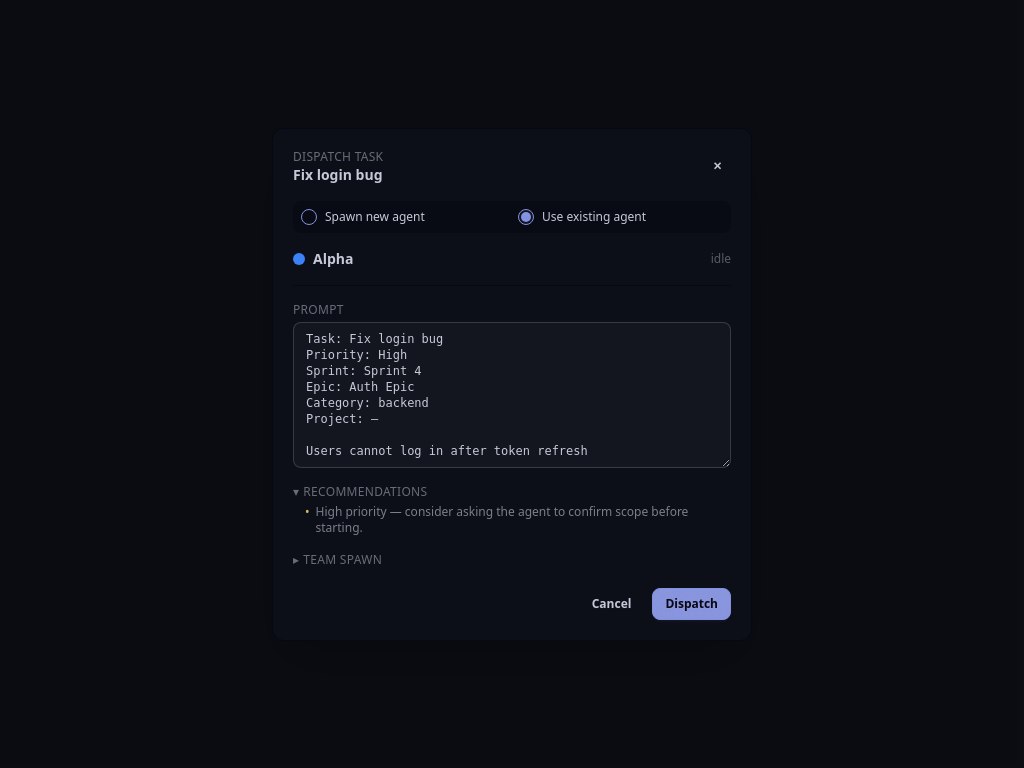
KanbanDispatchModal — team spawn › expands team spawn section when clicked
Click the button "▸ Team spawn".
click(343, 559)  # box [293, 552, 731, 568]
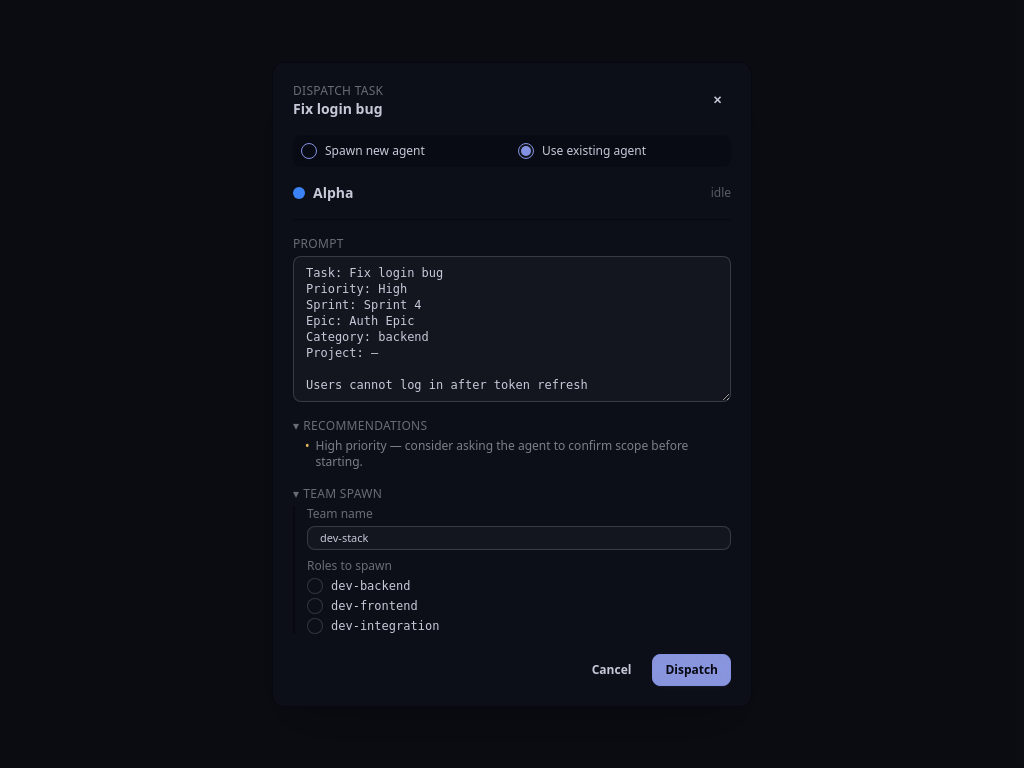
Now the field labelled "Team name" is shown, box [307, 526, 731, 550]
Now the checkbox labelled "dev-backend" is shown, box [307, 578, 323, 594]
Now the checkbox labelled "dev-frontend" is shown, box [307, 598, 323, 614]
